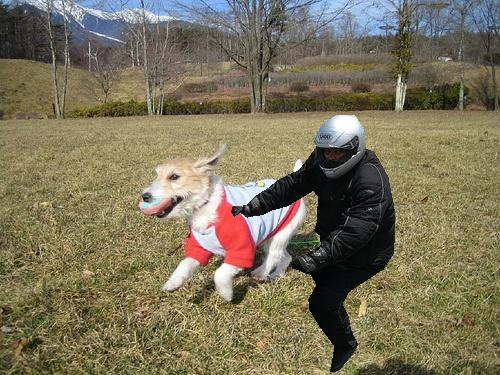tampered: (232, 116, 395, 372)
